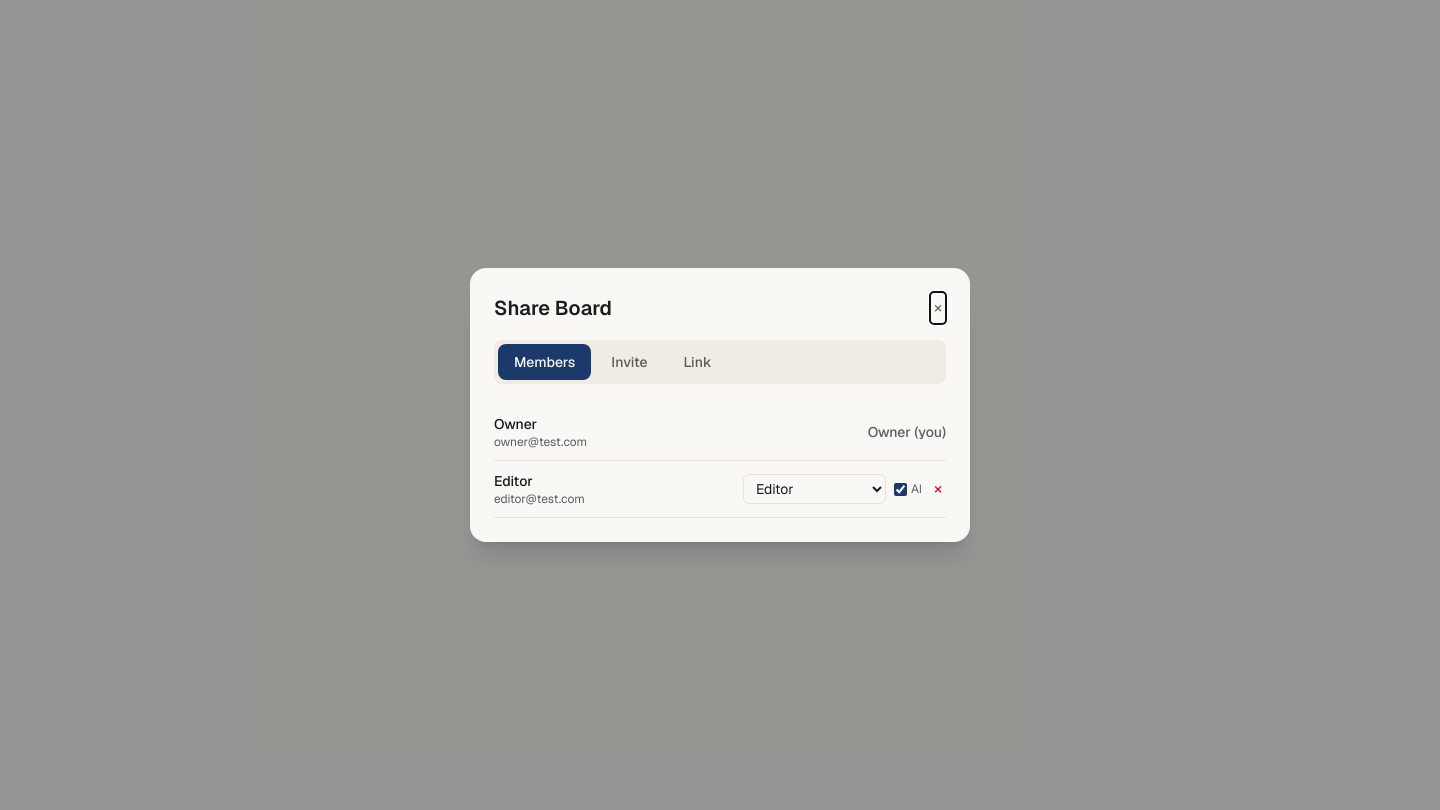
Test case: ShareDialog › switches to Link tab and shows generate link UI
Check: the heading "Share Board" is shown, box [494,294,612,322]
What coordinates should you click on to do the following:
click the button "Link"
I would click on:
 (697, 362)
Its box is [668,344,727,380].
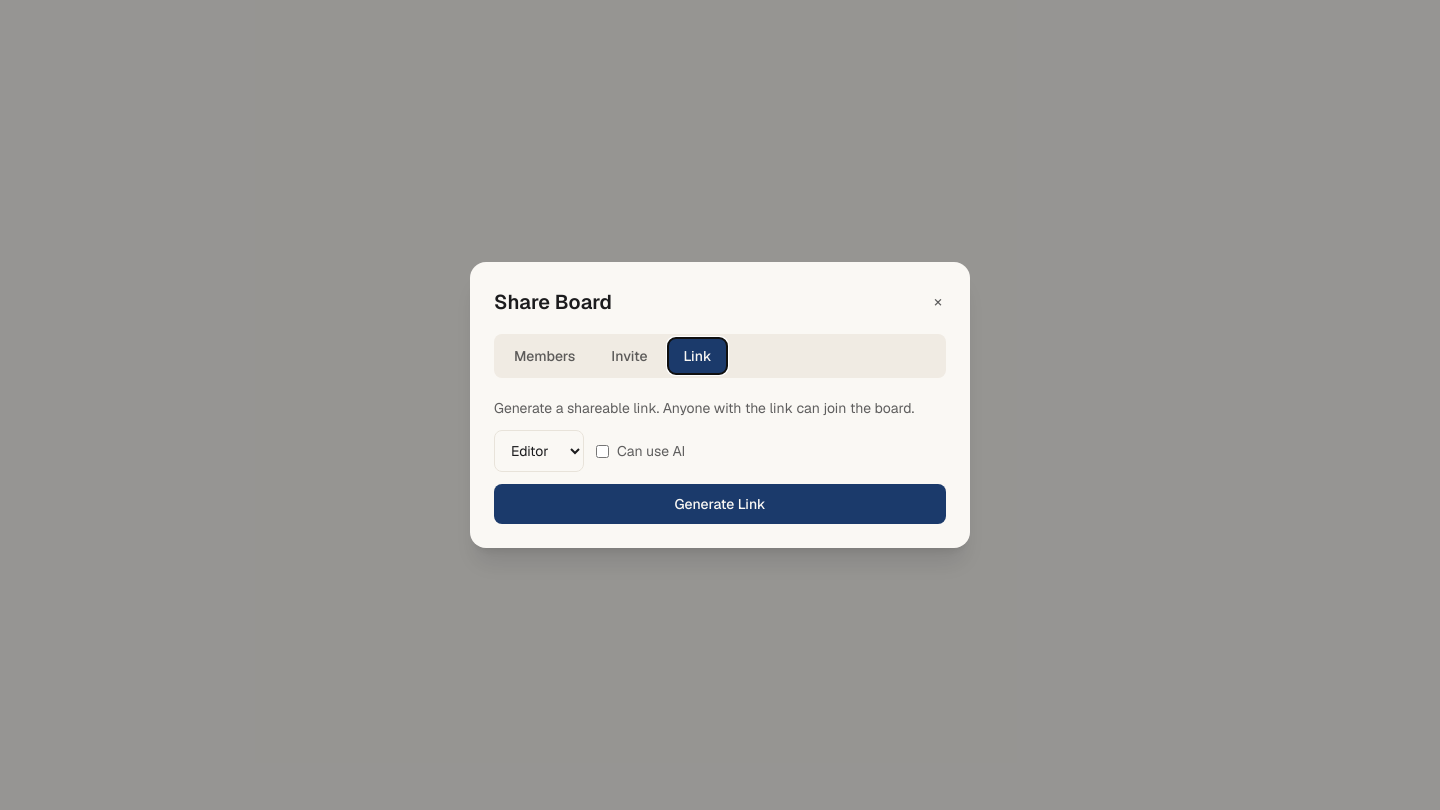
Check: the button "Generate Link" is shown, box [494,484,946,524]
